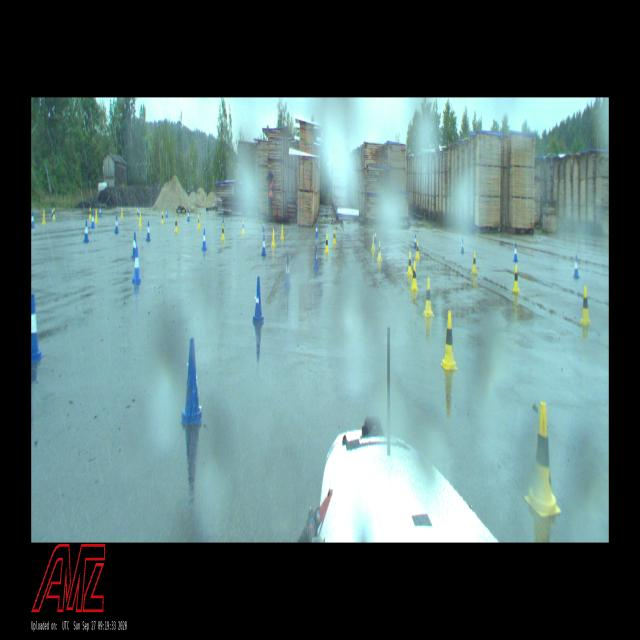blue_cone: (181, 338, 203, 424), (32, 294, 44, 363), (253, 277, 264, 321), (131, 247, 141, 283), (284, 254, 291, 287), (313, 245, 319, 270), (574, 256, 580, 278), (261, 234, 266, 256), (84, 221, 89, 242), (202, 229, 207, 250), (132, 232, 136, 258), (146, 221, 151, 241), (514, 242, 518, 262), (115, 216, 119, 233), (31, 212, 35, 228), (91, 212, 95, 228), (460, 237, 464, 253), (315, 224, 318, 237), (374, 230, 377, 243), (222, 214, 225, 226), (262, 220, 265, 232), (187, 210, 190, 221), (414, 234, 416, 248), (100, 207, 102, 217), (166, 208, 168, 218), (52, 207, 54, 216), (138, 207, 140, 216)
yellow_cone: (524, 402, 561, 518), (440, 311, 458, 370), (579, 285, 591, 326), (422, 277, 434, 318), (512, 264, 520, 293), (411, 261, 418, 291), (407, 251, 413, 276), (472, 251, 477, 274), (377, 242, 382, 262), (332, 229, 337, 245), (325, 234, 329, 253), (416, 242, 420, 260), (272, 229, 276, 247), (221, 223, 225, 240), (371, 234, 375, 250), (174, 216, 178, 232), (280, 224, 284, 239), (42, 209, 46, 224), (241, 220, 245, 234), (197, 216, 201, 229), (52, 207, 56, 220), (139, 211, 142, 227), (95, 209, 98, 223), (161, 211, 164, 223), (89, 207, 92, 219), (136, 209, 138, 220), (121, 208, 123, 218)
